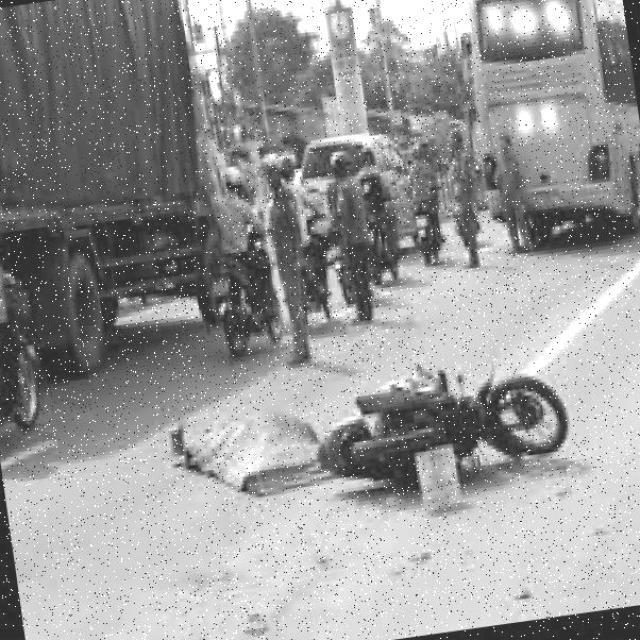accident: (296, 309, 600, 547)
